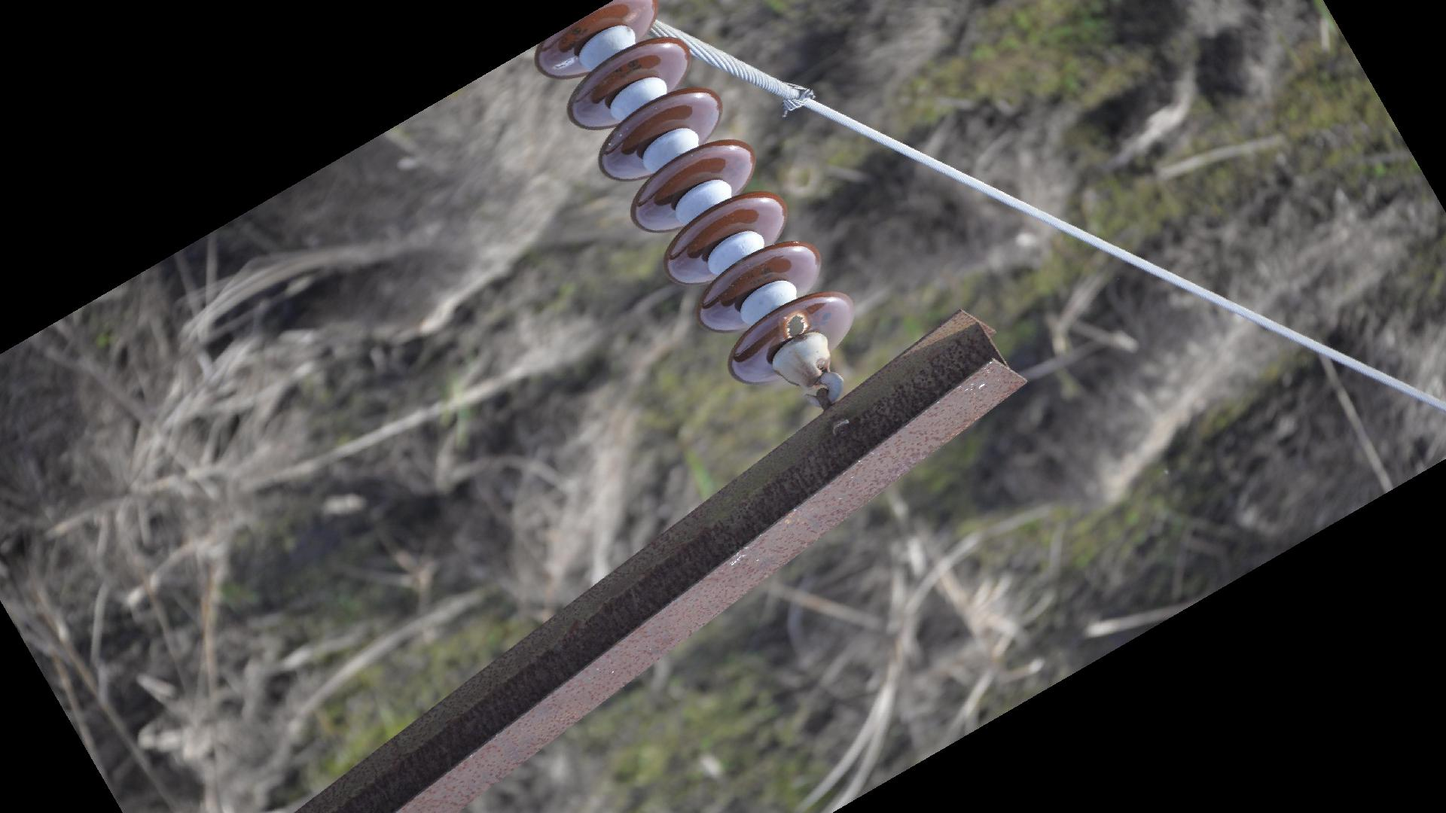insulator: (532, 1, 860, 394)
insulator_flashover: (784, 311, 811, 340), (551, 53, 578, 72)
